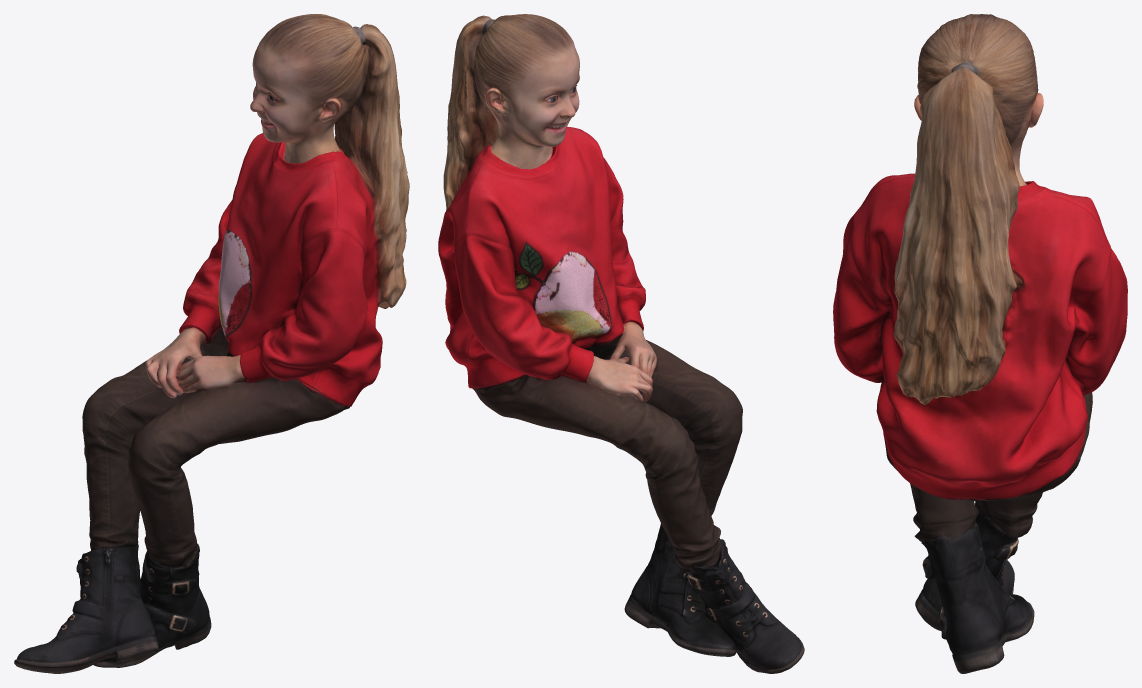
The model's file is elena_child.glb.
The picture shows the model from 3 angles, left to right: view 1: azimuth 30°, elevation 25°; view 2: azimuth 150°, elevation 25°; view 3: azimuth 270°, elevation 25°; orthographic projection. The views are drawn at different scales.
Visible parts, largest first — view 1: Object_2; view 2: Object_2; view 3: Object_2.
Part boxes in pixels (x1,y1,x2,y2): Object_2: (14, 14, 409, 673); Object_2: (438, 14, 804, 673); Object_2: (833, 14, 1127, 673).
Size of the model in its own units: 1.62 by 2.5 by 0.9046.
Materials: 1 (1 with a texture image).
